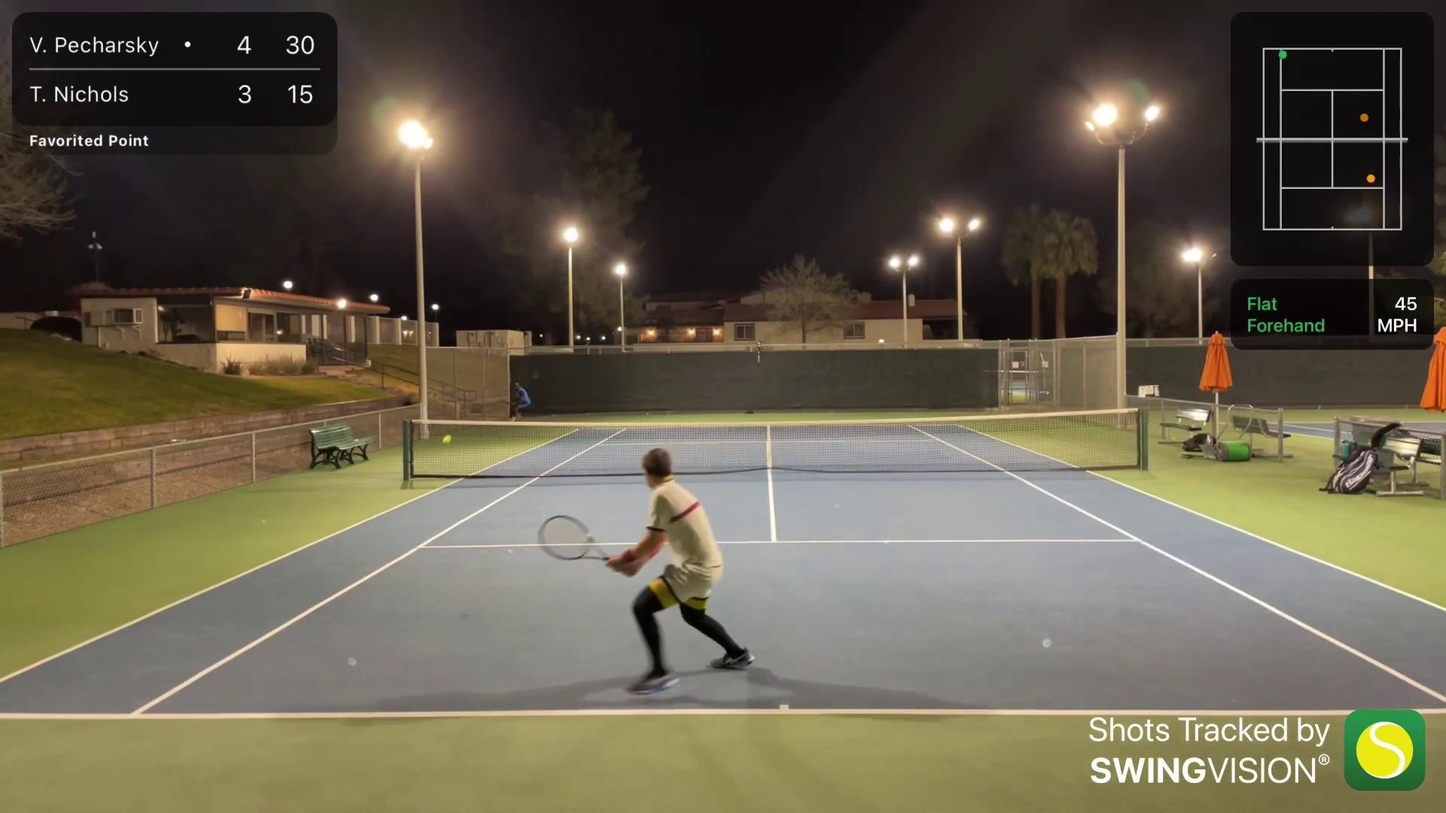ball: (438, 432, 452, 449)
